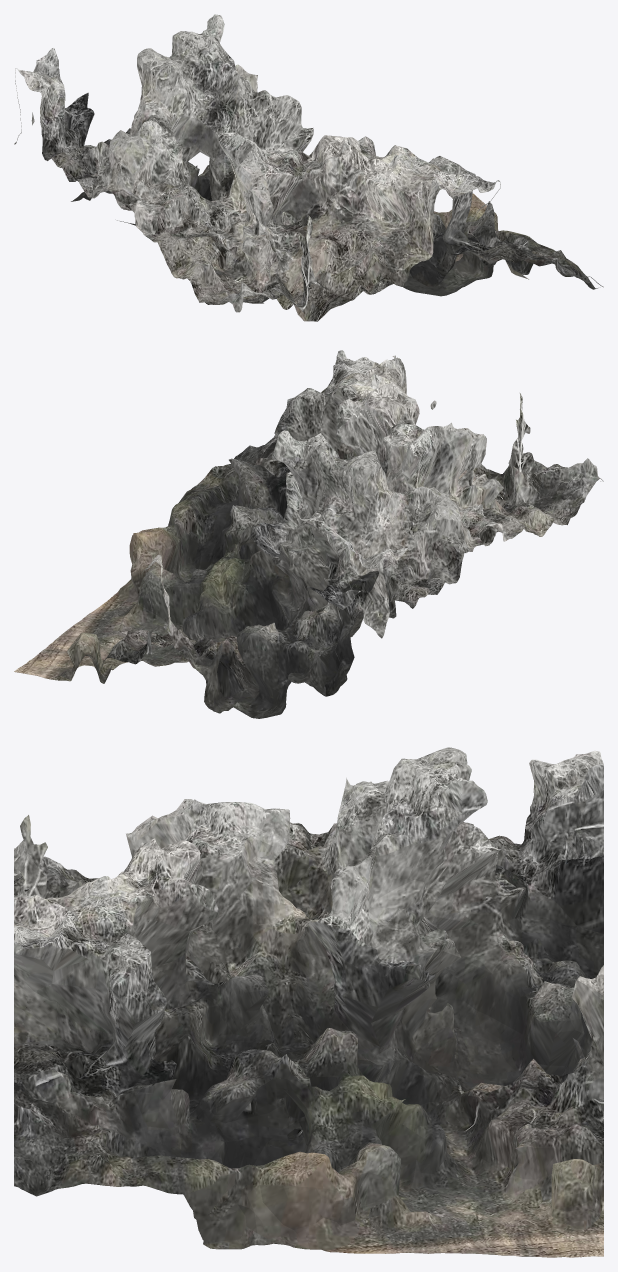
Rendered from Block_L20_209.glb.
3 renders of one model, top to bottom at view 1: azimuth 30°, elevation 25°; view 2: azimuth 150°, elevation 25°; view 3: azimuth 270°, elevation 25°, orthographic. The views are drawn at different scales.
Visible parts, largest first — view 1: rtc; view 2: rtc; view 3: rtc.
Boxes of the visible parts, <box> form: rtc: <box>14,14,603,321</box>; rtc: <box>14,350,603,718</box>; rtc: <box>14,747,603,1257</box>.
Size of the model in its own units: 20.25 by 13.4 by 21.17.
8 materials, 8 textured.
